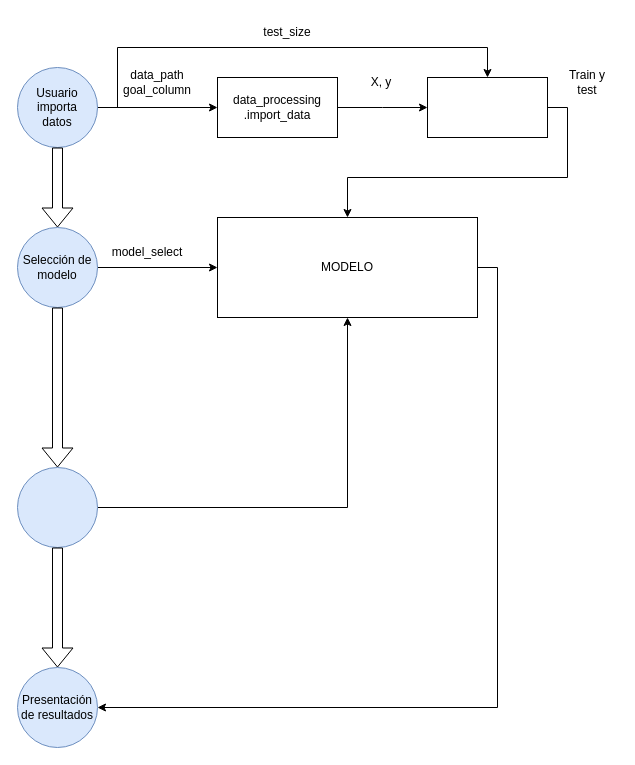
Some shapes in this 635 by 765 pixel diagram are drawn without their labels. Here are the shapes that lost their labels. From the top down, the centre of each, then its label:
(487,107): data_processing .split_data
(57,507): Selección de parametros
